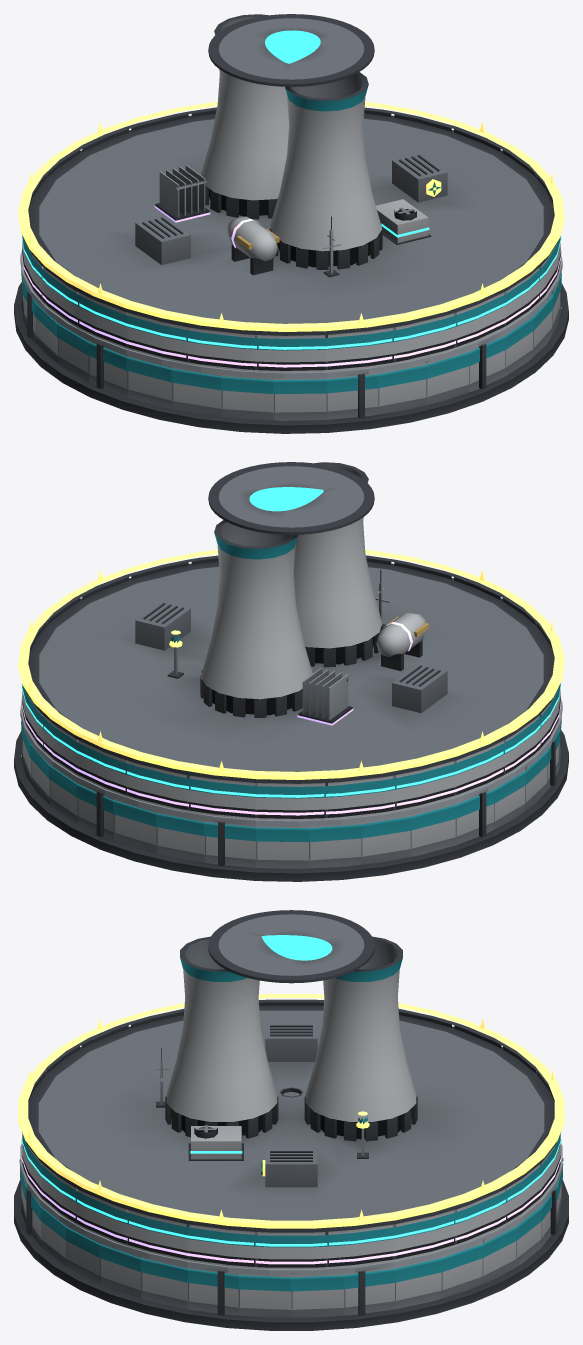
Rendered from atmo_processor_m_far.glb.
The picture shows the model from 3 angles, top to bottom: view 1: azimuth 30°, elevation 25°; view 2: azimuth 150°, elevation 25°; view 3: azimuth 270°, elevation 25°; orthographic projection.
Parts seen in each view (by area): view 1: Roof, Base, L5, L4, L2, L3; view 2: Roof, Base, L5, L4, L2, L3; view 3: Roof, Base, L5, L2, L3, L4.
Part boxes in pixels (left/top/right/bottom): Roof: left=22, top=14, right=560, bottom=372; Base: left=14, top=266, right=568, bottom=433; L5: left=18, top=101, right=564, bottom=331; L4: left=21, top=165, right=561, bottom=367; L2: left=20, top=216, right=562, bottom=378; L3: left=21, top=199, right=561, bottom=349; Roof: left=22, top=462, right=560, bottom=820; Base: left=14, top=714, right=568, bottom=881; L5: left=18, top=549, right=564, bottom=779; L4: left=21, top=613, right=561, bottom=815; L2: left=20, top=570, right=562, bottom=826; L3: left=21, top=682, right=561, bottom=797; Roof: left=22, top=910, right=560, bottom=1269; Base: left=14, top=1158, right=568, bottom=1330; L5: left=18, top=994, right=564, bottom=1228; L2: left=20, top=1047, right=562, bottom=1275; L3: left=21, top=1087, right=561, bottom=1246; L4: left=21, top=1156, right=561, bottom=1264.
Size of the model in its own units: 14.75 by 7.88 by 14.75.
